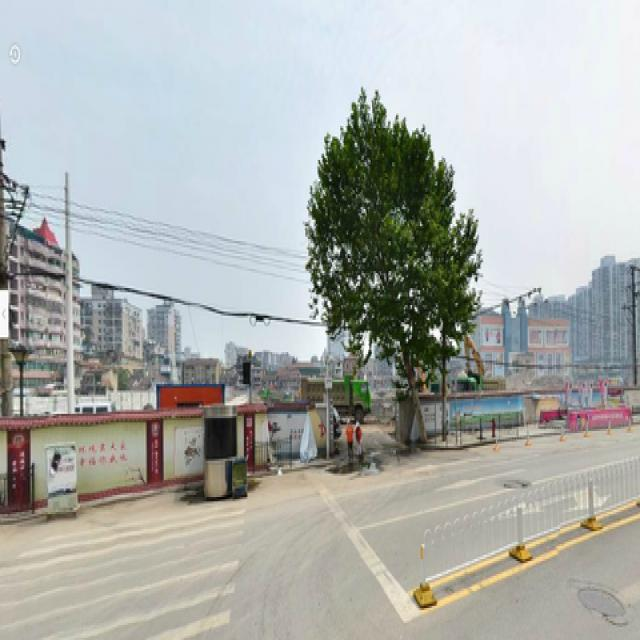meta: (316, 102, 471, 444)
